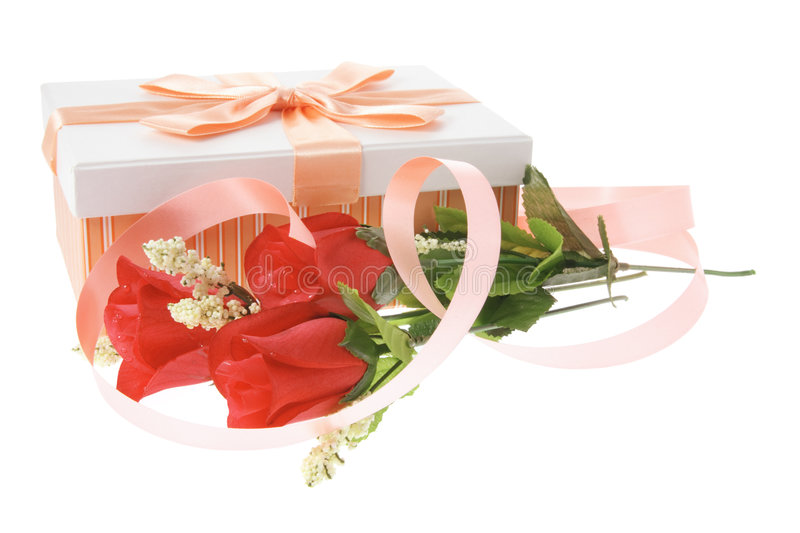RedRose: (81, 242, 297, 412), (201, 288, 421, 445), (236, 197, 420, 311)
